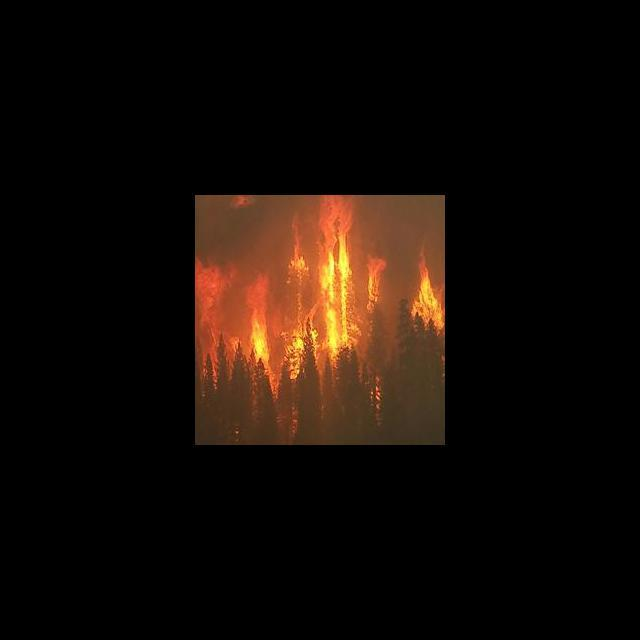Fire: (195, 196, 444, 371)
